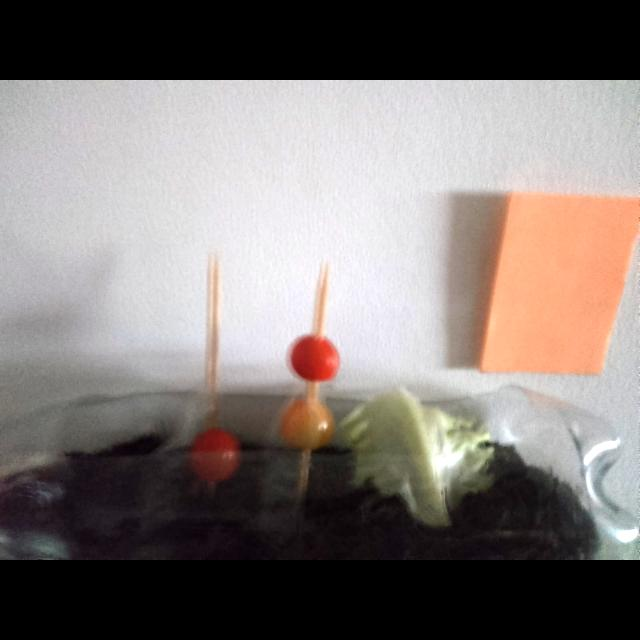fruit_maturation: (479, 193, 638, 374), (279, 399, 334, 451), (190, 428, 241, 483)
fully_grown: (290, 335, 339, 382)
